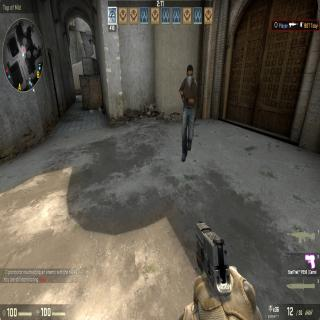T-Body: (176, 64, 198, 159)
T-Head: (186, 64, 194, 84)
